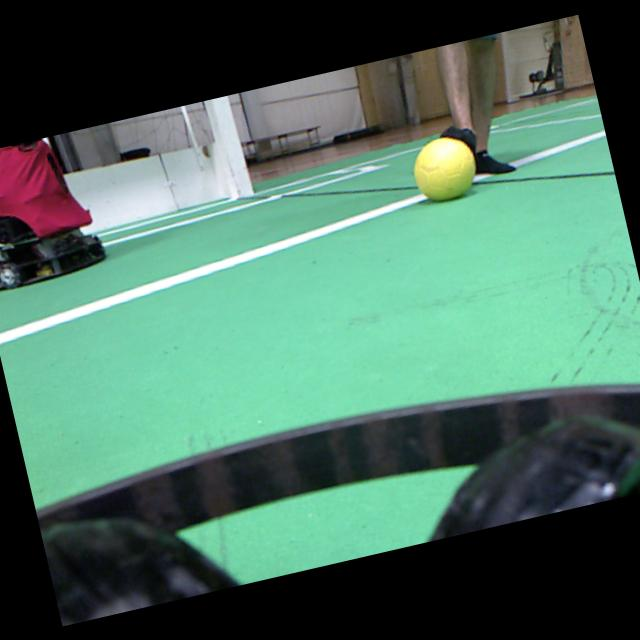ball: (413, 137, 475, 200)
goal: (205, 95, 253, 196)
